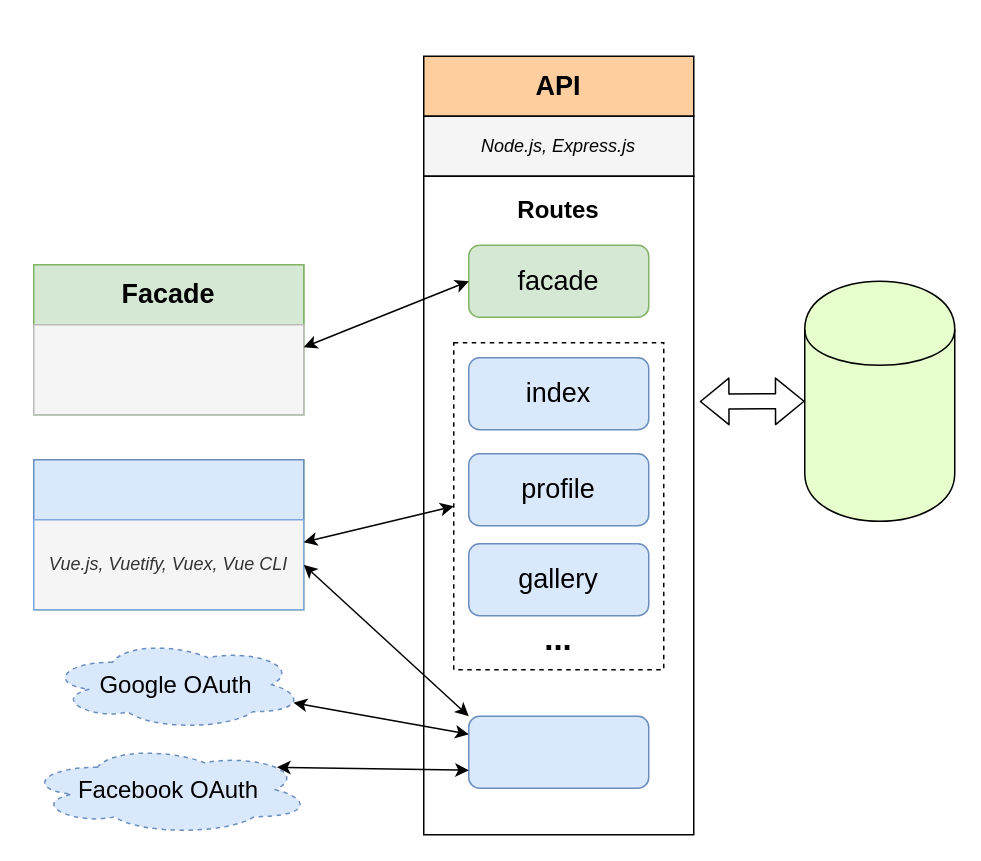
This 981x861 diagram has some shape labels left out. Here are the shapes that lost their labels. From the top down, the centre of each, then its label:
At (168,369): "Node.js, Express.js, jQuery, SASS, Gulp etc.".
At (879,400): "MongoDB".
At (168,489): "Dashboard".
At (558,751): "auth".
